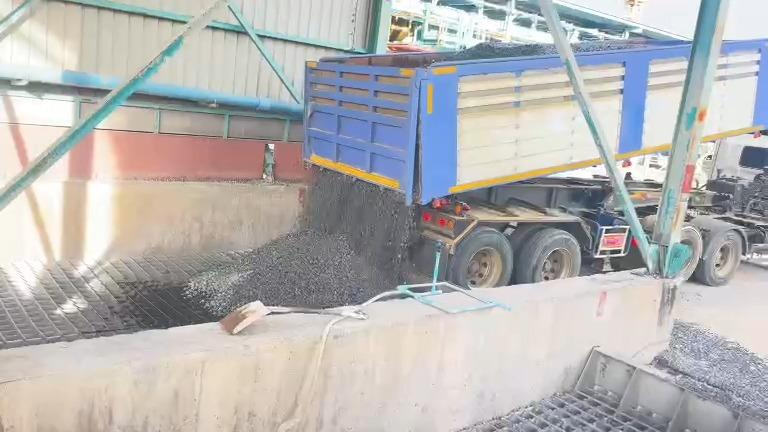gravel: (184, 169, 413, 316), (185, 230, 395, 316), (654, 322, 767, 418), (443, 41, 557, 60), (571, 40, 647, 52)
